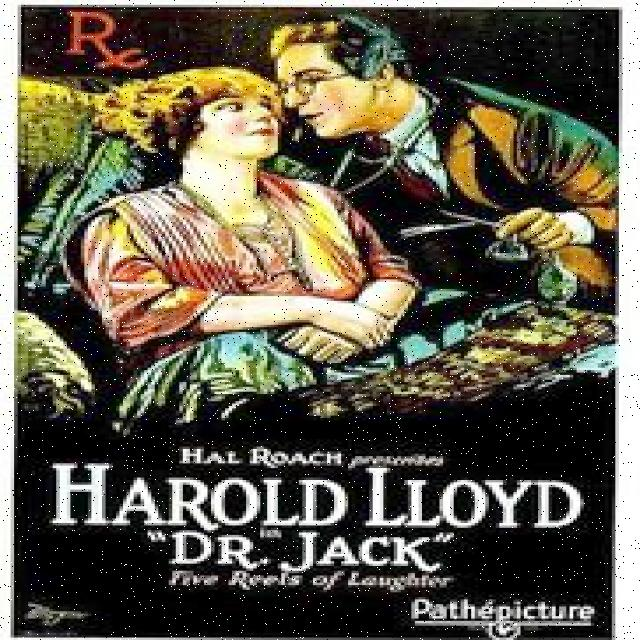movie-judul: (45, 453, 602, 584)
picture: (58, 12, 565, 408)
